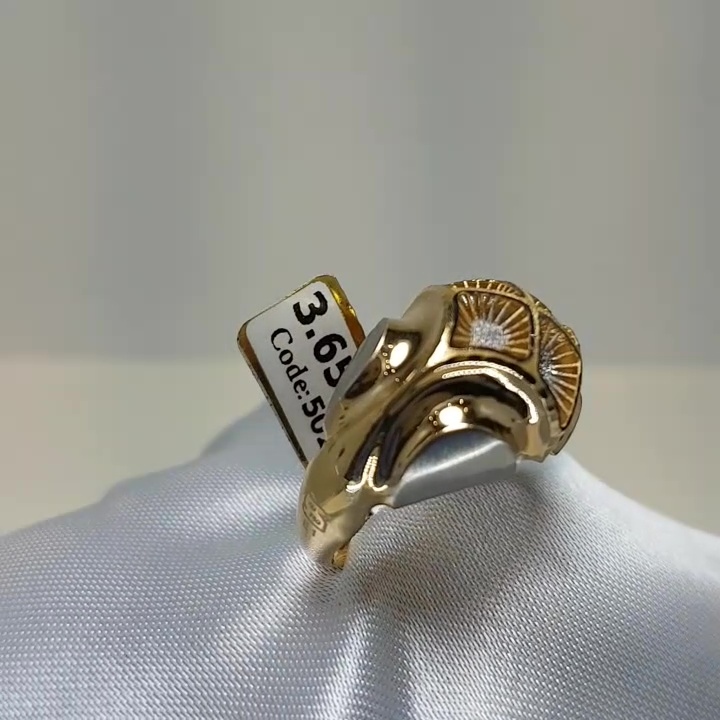Ring 2: (263, 242, 630, 575)
